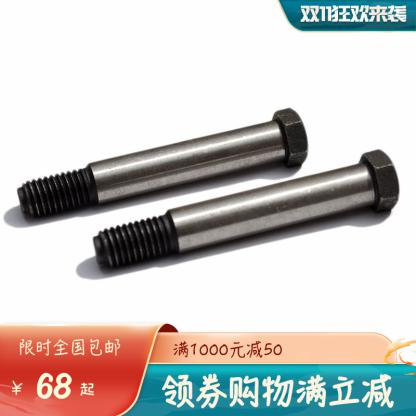FOD: (90, 148, 400, 278), (14, 105, 312, 223)
